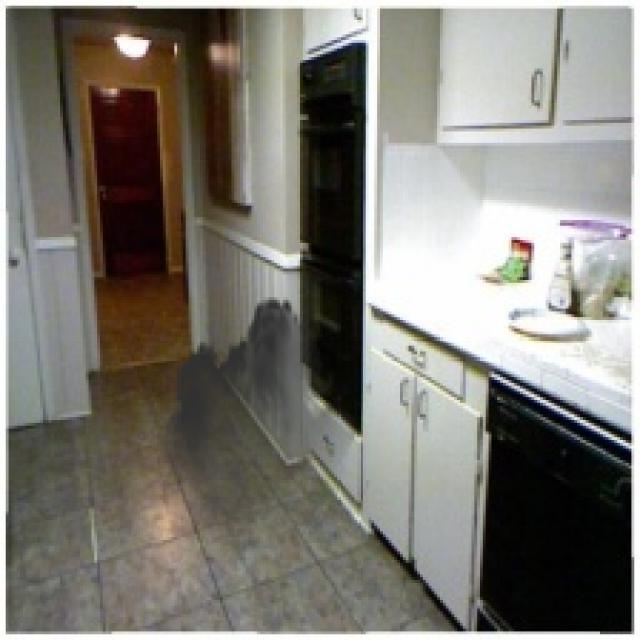smoke: (157, 286, 363, 563)
